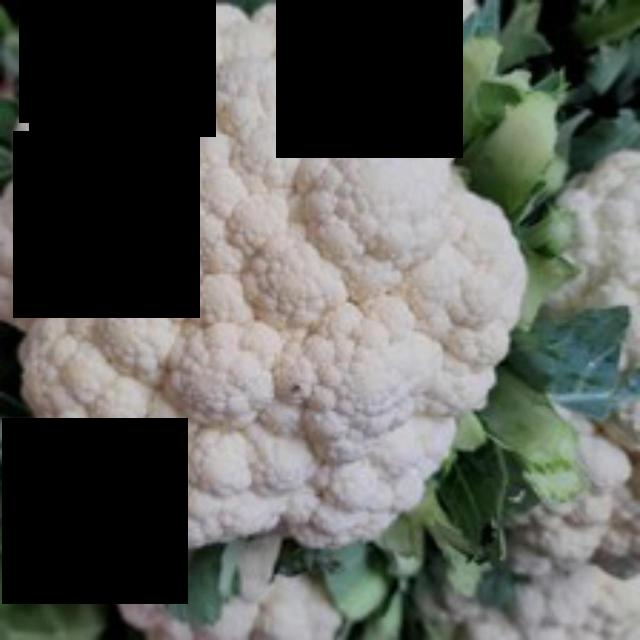cauliflower: (0, 0, 532, 558)
